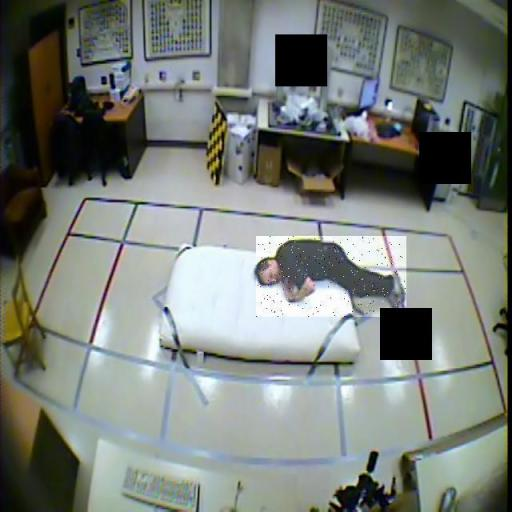Fall: (256, 236, 406, 317)
